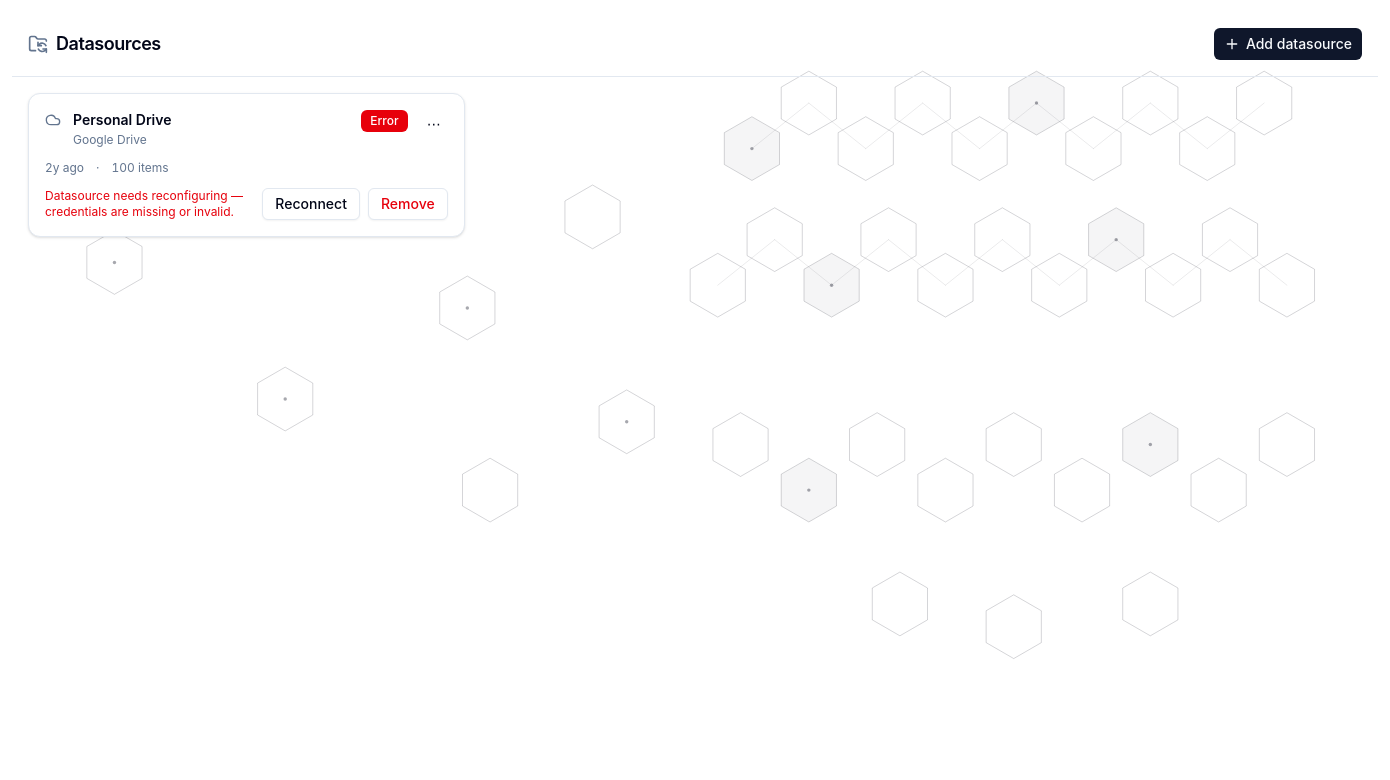
it: InvalidDatasourceBanner — renders iff errorKind is invalid-datasource › banner unmounts when auth-completed flips the summary back to connected
Check: the element with test id "invalid-datasource-banner" is shown, box [45,188,448,220]
Click the button "Reconnect" at (311, 204), box [262,188,360,220]
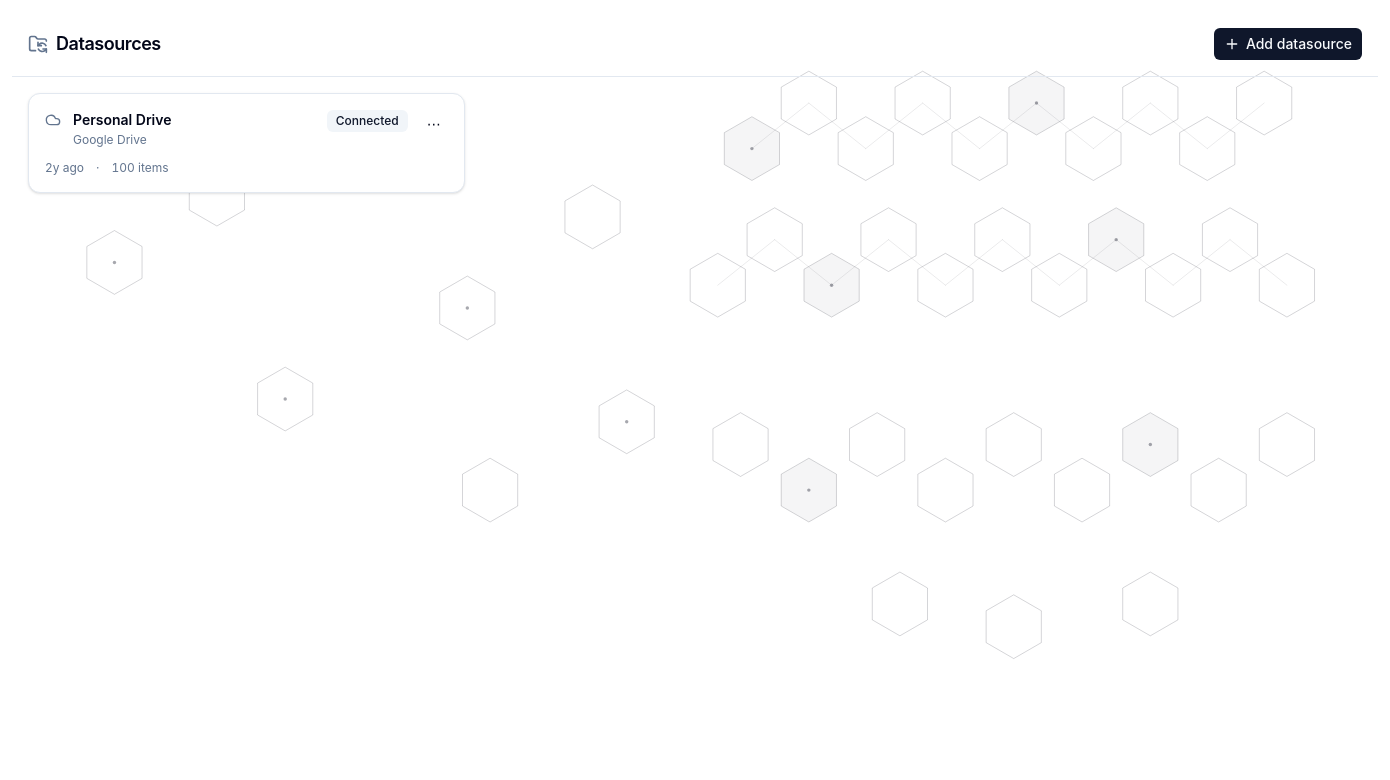
Check: the element with test id "invalid-datasource-banner" is gone
